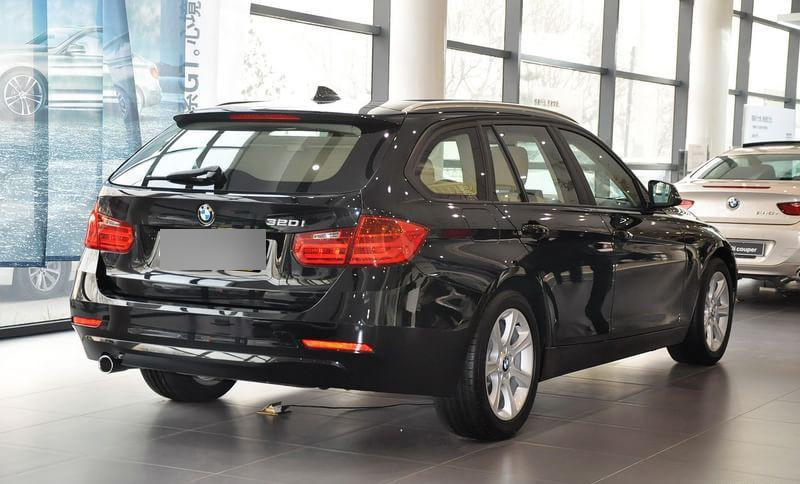Wagon: (69, 84, 740, 441)
